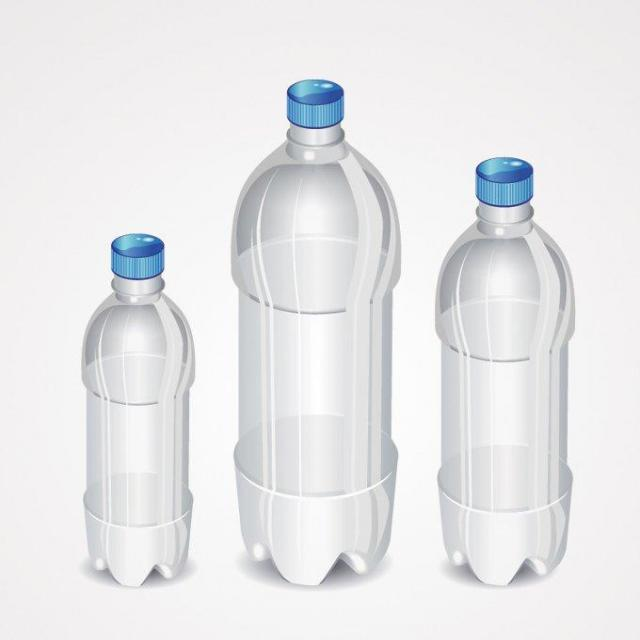plastic_bottle: (223, 81, 413, 592), (69, 229, 202, 592)
